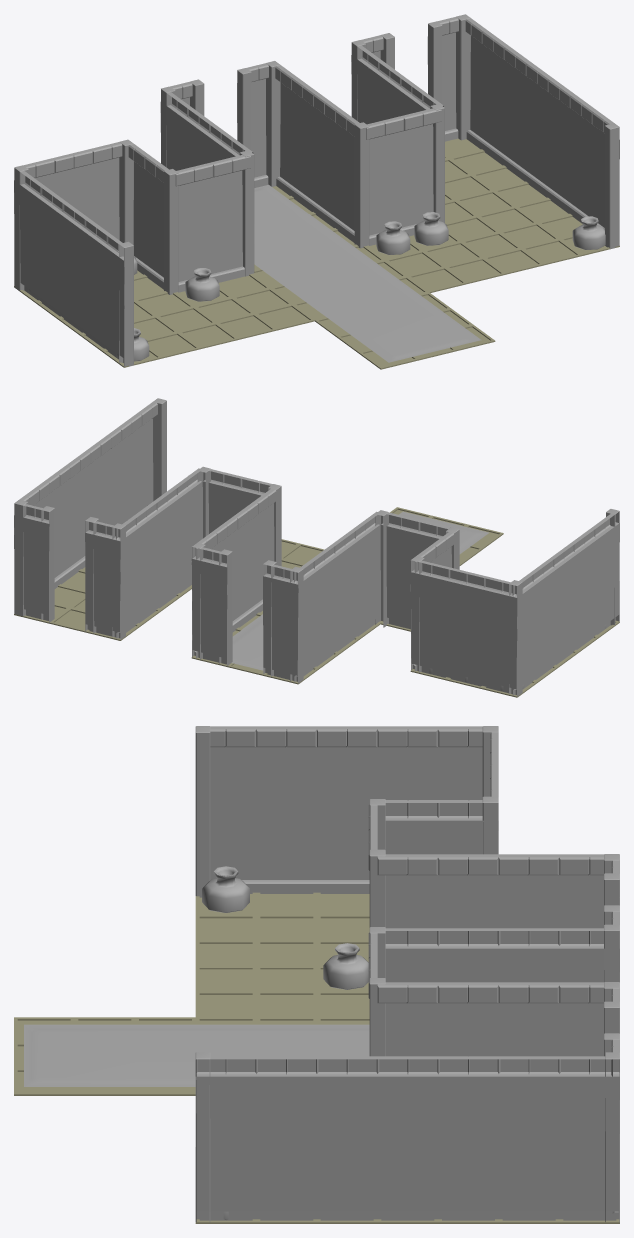
The model's file is GrayBoxModular.fbx.
3 views of the same model, one above another, from view 1: azimuth 30°, elevation 25°; view 2: azimuth 150°, elevation 25°; view 3: azimuth 270°, elevation 25° (orthographic). The views are drawn at different scales.
Parts seen in each view (by area): view 1: Rug_Middle2, Rug_Middle1, Plain_Wall17, Rug_End1, Plain_Wall19, Plain_Wall16, Plain_Wall18, Rug_Middle3, Plain_Wall12, Plain_Wall13, Plain_Wall35, Plain_Wall10 (+74 smaller); view 2: Plain_Wall1, Plain_Wall3, Plain_Wall21, Plain_Wall2, Plain_Wall15, Plain_Wall14, Plain_Wall17, Plain_Wall20, Plain_Wall13, Plain_Wall29, Plain_Wall6, Plain_Wall5 (+37 smaller); view 3: Plain_Wall6, Plain_Wall12, Plain_Wall35, Plain_Wall10, Plain_Wall11, Plain_Wall13, Plain_Wall9, Plain_Wall36, Plain_Wall7, Plain_Wall8, Rug_End1, Rug_Middle1 (+39 smaller).
Boxes of the visible parts, x1,y1,x2,y2 form: Rug_Middle2: (260, 246, 396, 300); Rug_Middle1: (305, 278, 440, 332); Plain_Wall17: (210, 155, 250, 282); Rug_End1: (348, 310, 481, 362); Plain_Wall19: (401, 108, 441, 236); Plain_Wall16: (175, 162, 213, 292); Plain_Wall18: (366, 116, 403, 245); Rug_Middle3: (254, 214, 352, 268); Plain_Wall12: (526, 62, 553, 197); Plain_Wall13: (504, 46, 531, 181); Plain_Wall35: (482, 30, 509, 165); Plain_Wall10: (548, 79, 575, 213); Plain_Wall1: (446, 567, 484, 686); Plain_Wall3: (410, 560, 448, 677); Plain_Wall21: (85, 521, 120, 638); Plain_Wall2: (481, 576, 517, 694); Plain_Wall15: (191, 547, 227, 664); Plain_Wall14: (263, 564, 298, 681); Plain_Wall17: (380, 512, 418, 629); Plain_Wall20: (14, 504, 49, 620); Plain_Wall13: (55, 458, 79, 584); Plain_Wall29: (233, 502, 257, 627); Plain_Wall6: (574, 525, 599, 650); Plain_Wall5: (533, 555, 558, 680); Plain_Wall6: (256, 726, 316, 893); Plain_Wall12: (377, 1056, 438, 1220); Plain_Wall35: (498, 1056, 559, 1220); Plain_Wall10: (317, 1056, 377, 1220); Plain_Wall11: (256, 1056, 316, 1220); Plain_Wall13: (438, 1056, 498, 1220); Plain_Wall9: (195, 1056, 256, 1220); Plain_Wall36: (559, 1056, 619, 1220); Plain_Wall7: (317, 726, 377, 893); Plain_Wall8: (210, 726, 256, 893); Rug_End1: (24, 1024, 135, 1086); Rug_Middle1: (135, 1024, 256, 1086).
Bounding box in the file's own units: 13 × 3.01 × 10.
